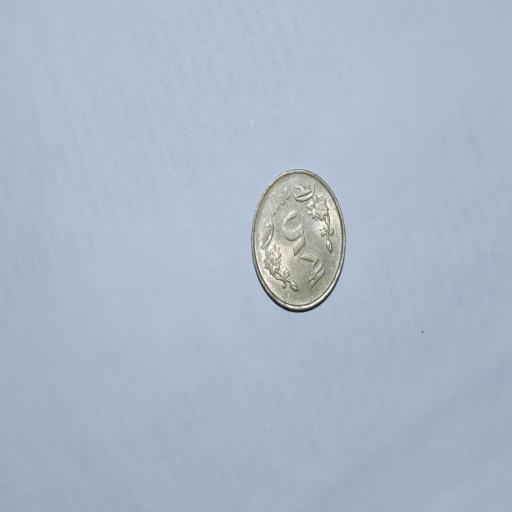rupee5: (251, 169, 345, 312)
